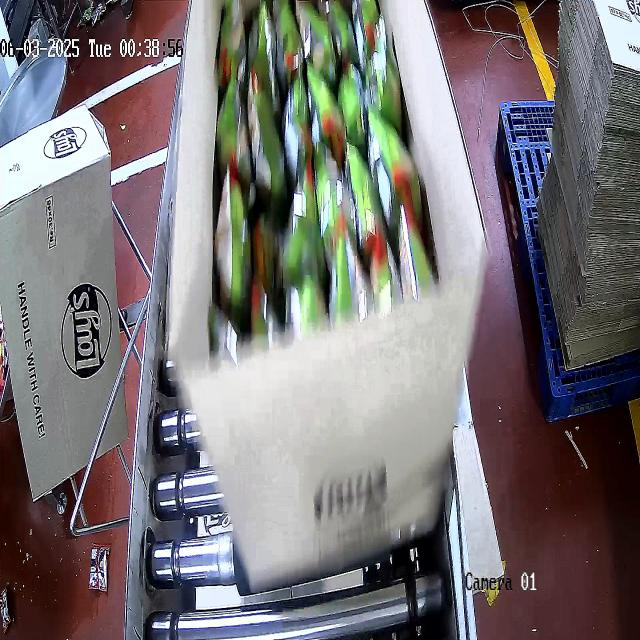YOGURT_HERB: (214, 0, 431, 360)
